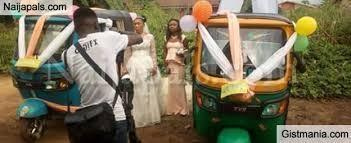keke: (190, 2, 294, 143)
